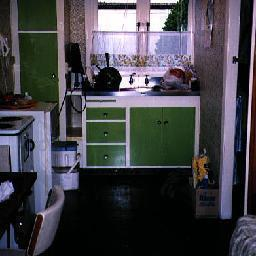Lavaplatos: (125, 74, 154, 91)
